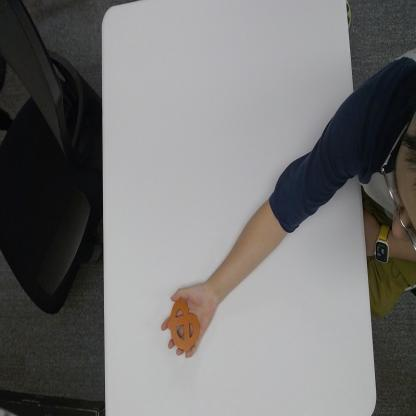Arm: (214, 68, 362, 315)
Pretzel: (168, 292, 200, 354)
